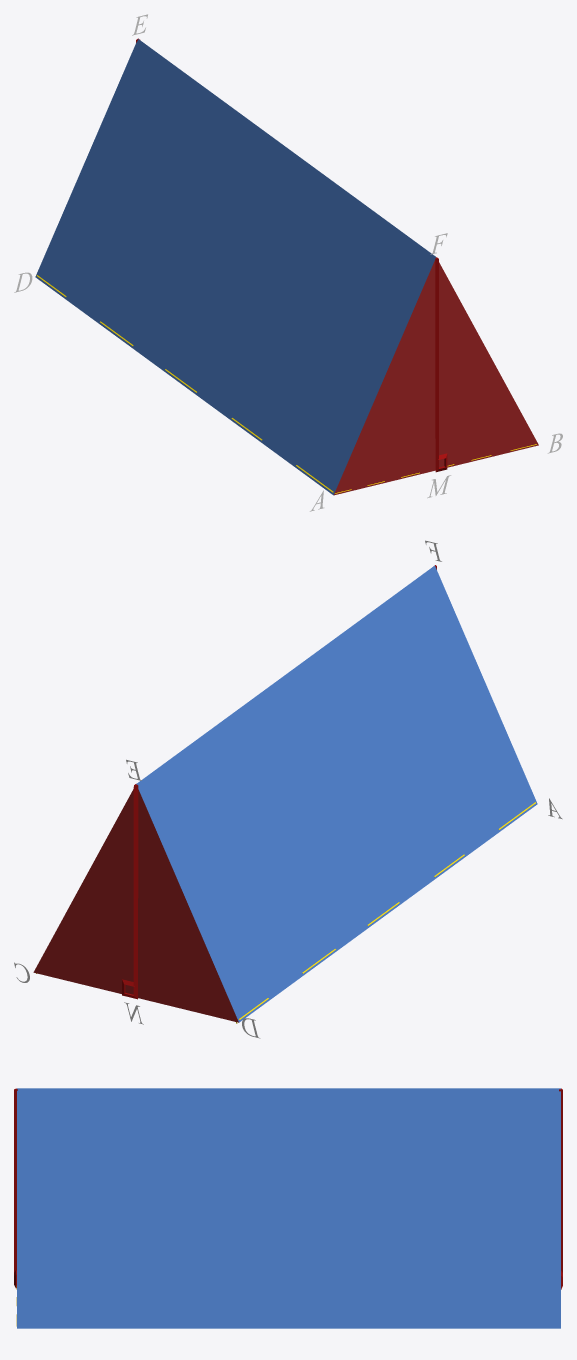
The model's file is prisms.fbx.
The picture shows the model from 3 angles, top to bottom: view 1: azimuth 30°, elevation 25°; view 2: azimuth 150°, elevation 25°; view 3: azimuth 270°, elevation 25°; orthographic projection. The views are drawn at different scales.
Visible parts, largest first — view 1: Prism001, Line011; view 2: Prism001, Line009; view 3: Prism001, Line011, Line009.
Boxes of the visible parts, bbox=[...] form: Prism001: bbox=[35, 39, 538, 495]; Line011: bbox=[435, 257, 447, 472]; Prism001: bbox=[33, 565, 537, 1022]; Line009: bbox=[122, 784, 138, 999]; Prism001: bbox=[17, 1088, 560, 1328]; Line011: bbox=[14, 1088, 17, 1288]; Line009: bbox=[559, 1088, 562, 1289].
Bounding box in the file's own units: 22.61 × 22.23 × 46.56.
